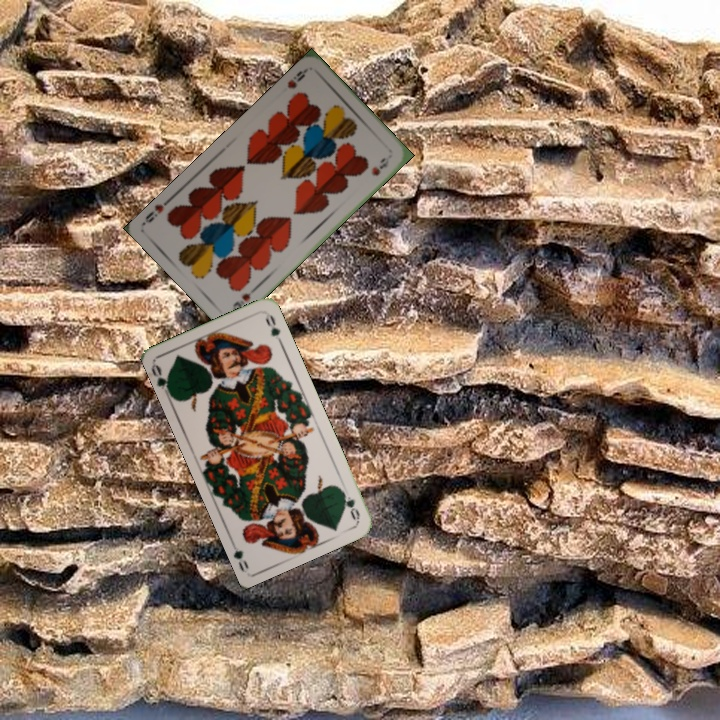GO: (148, 360, 174, 400), (336, 485, 362, 523)
H9: (228, 284, 259, 314), (283, 65, 310, 91)
